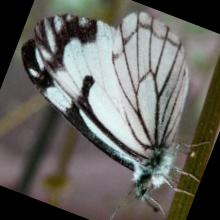butterfly: (21, 12, 190, 212)
